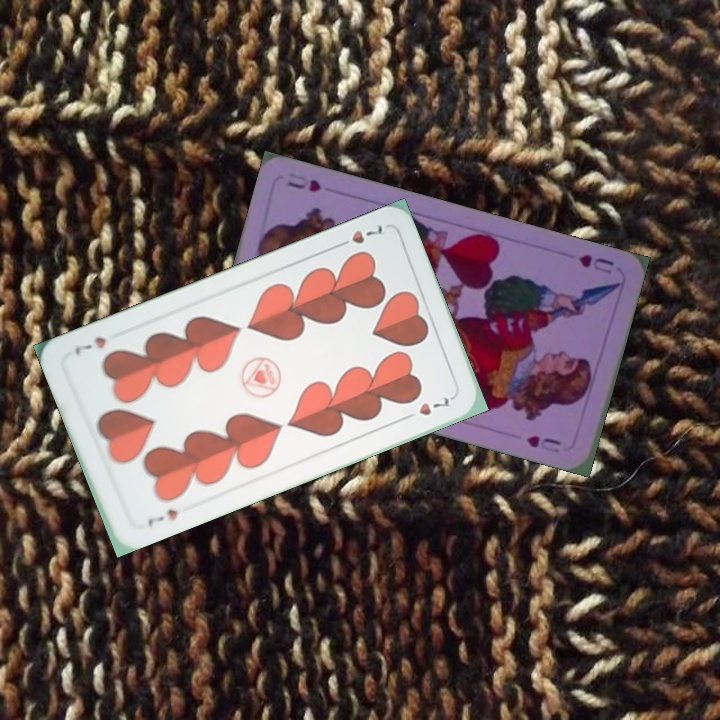H7: (331, 220, 387, 251), (143, 504, 180, 529)
HU: (574, 250, 616, 276)
